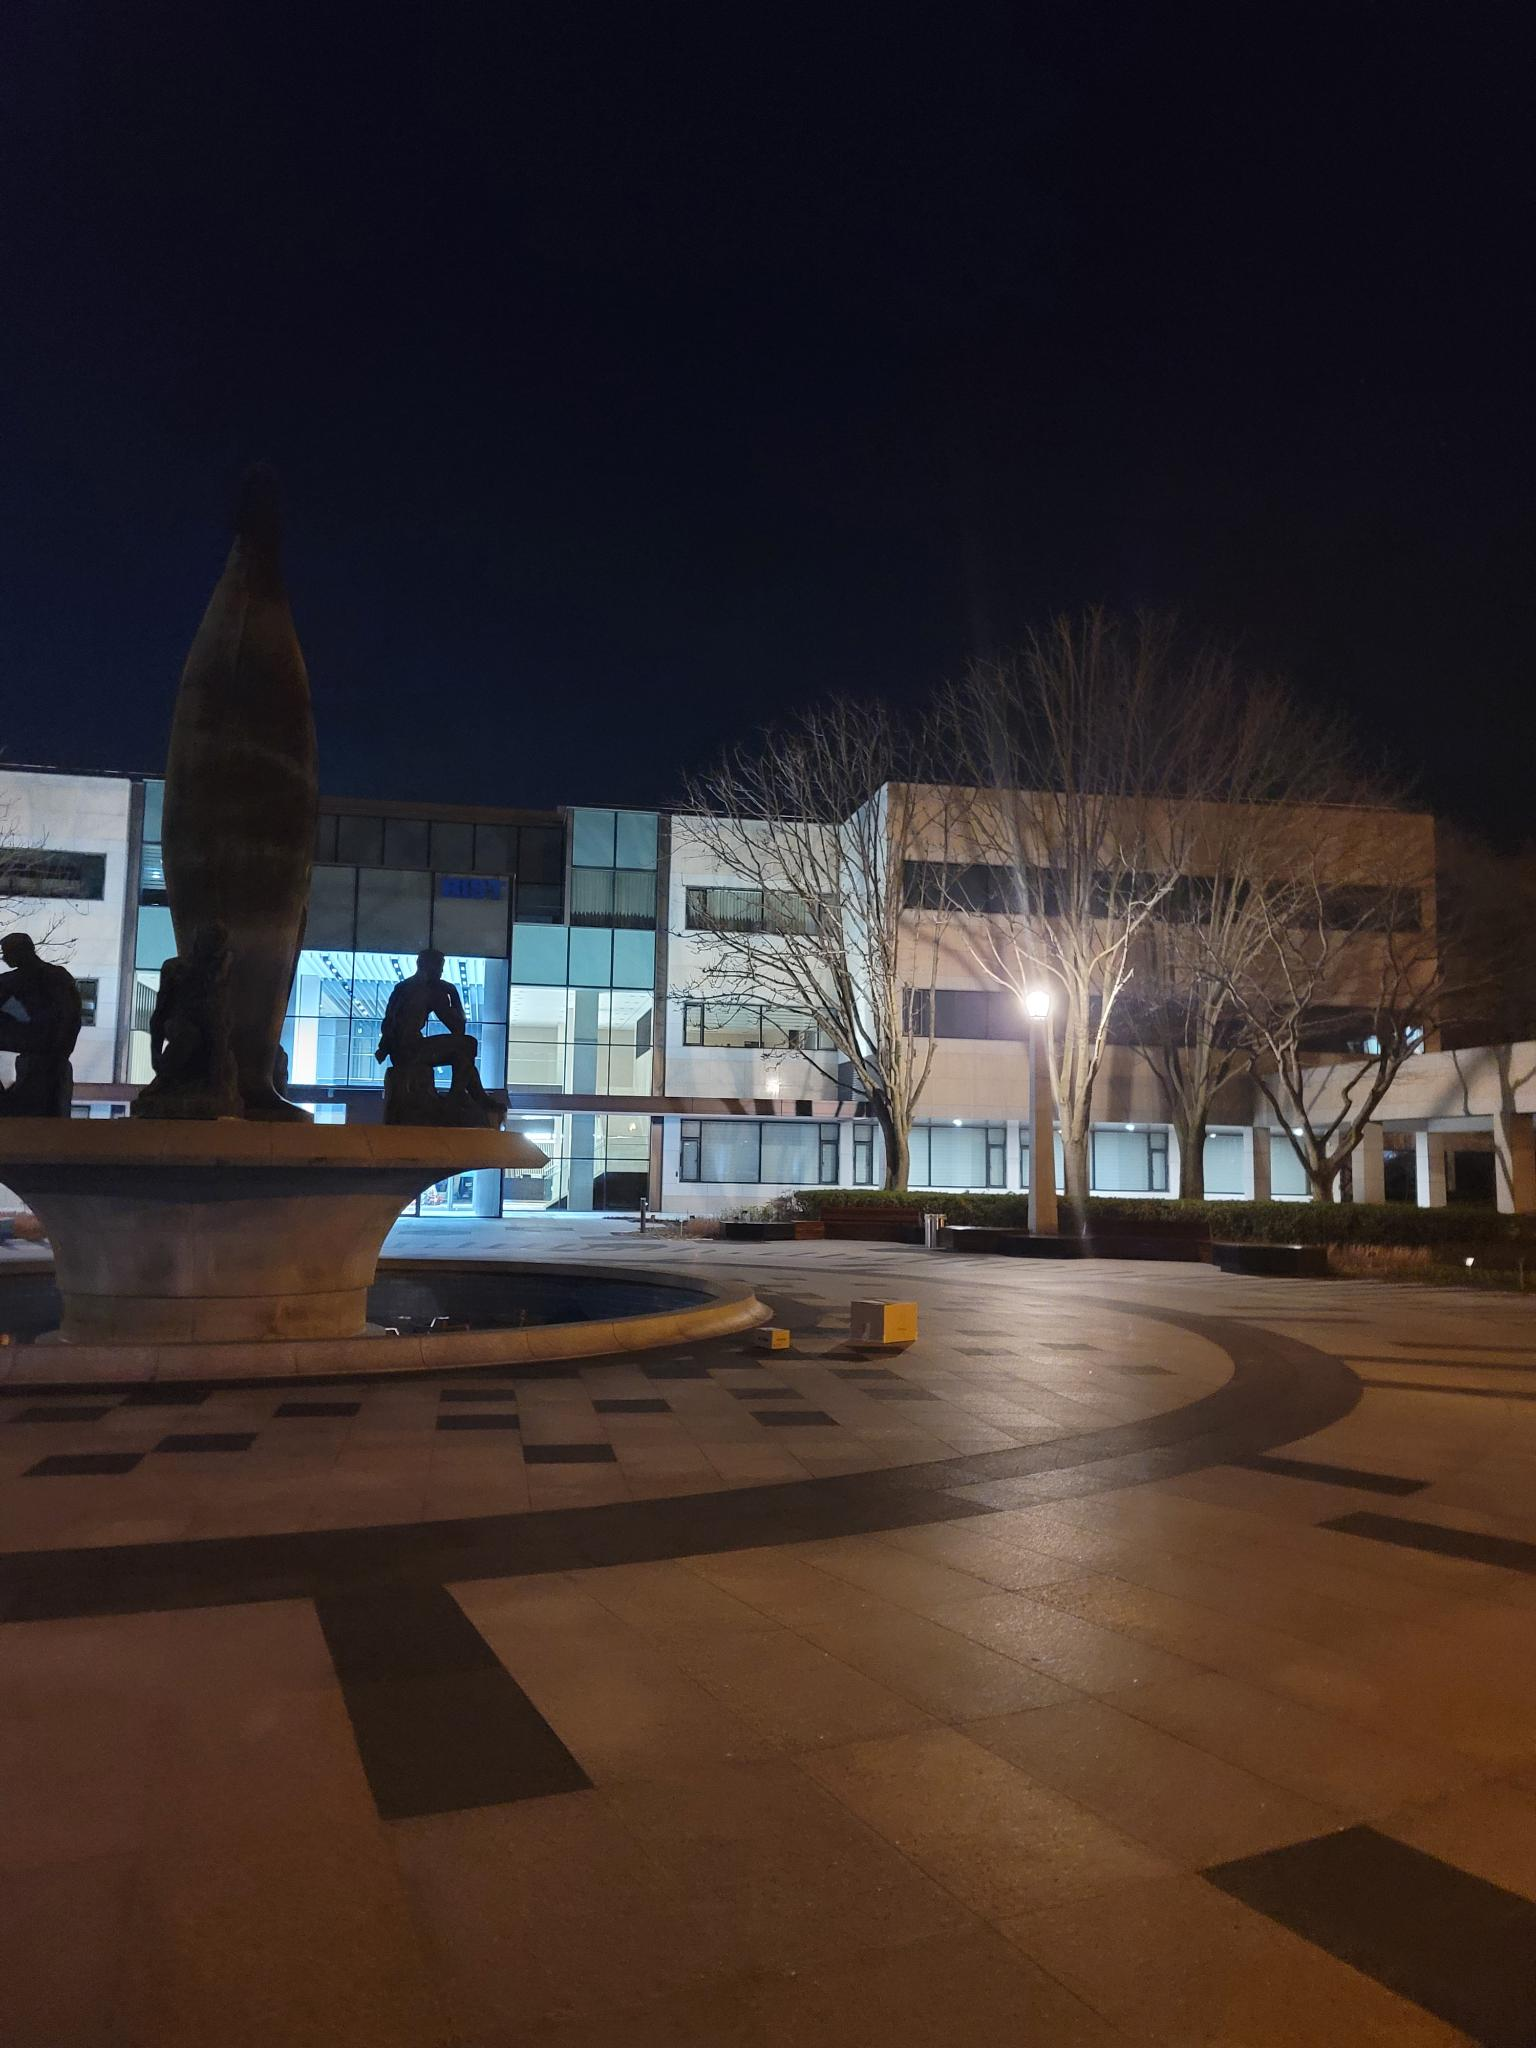Box: (857, 1292, 921, 1350), (758, 1316, 799, 1359)
